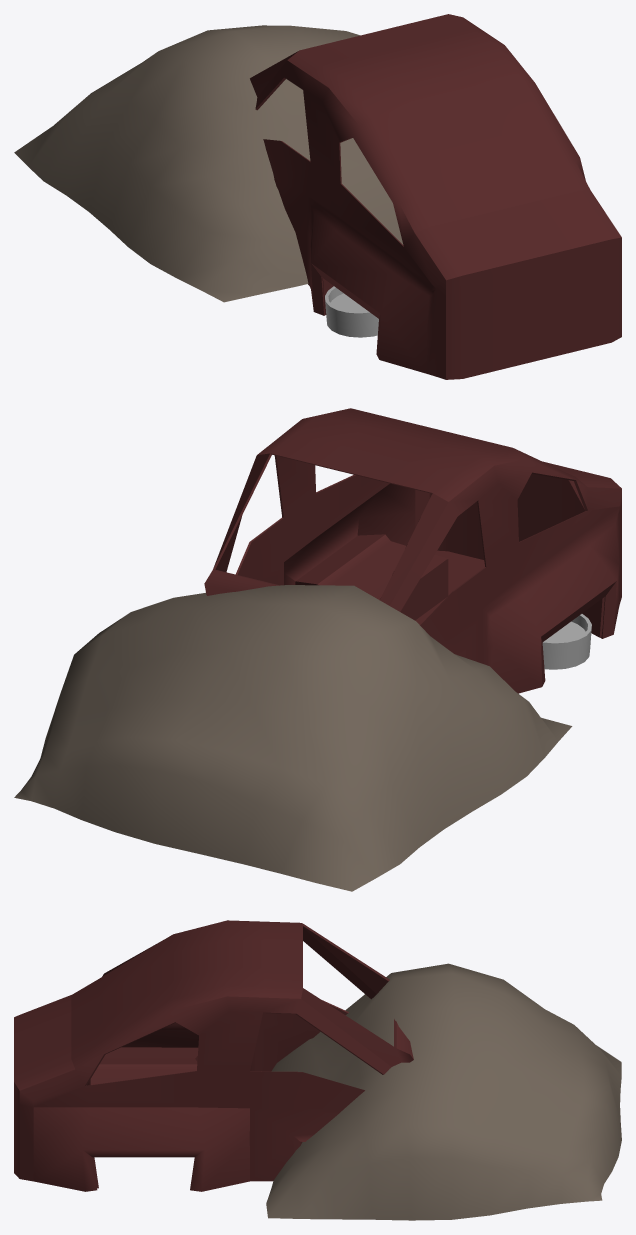
The model's file is car1_prototype.fbx.
3 views of the same model, one above another, from view 1: azimuth 30°, elevation 25°; view 2: azimuth 150°, elevation 25°; view 3: azimuth 270°, elevation 25° (orthographic). The views are drawn at different scales.
Parts seen in each view (by area): view 1: carPart, dust, tire; view 2: dust, carPart, tire; view 3: carPart, dust.
Boxes of the visible parts, left/top/right/bottom form: carPart: left=250, top=14, right=621, bottom=379; dust: left=14, top=25, right=403, bottom=302; tire: left=325, top=286, right=378, bottom=337; dust: left=14, top=585, right=572, bottom=891; carPart: left=204, top=408, right=621, bottom=693; tire: left=542, top=614, right=591, bottom=669; carPart: left=14, top=920, right=413, bottom=1191; dust: left=266, top=963, right=621, bottom=1220.
Size of the model in its own units: 308 by 165 by 483.
